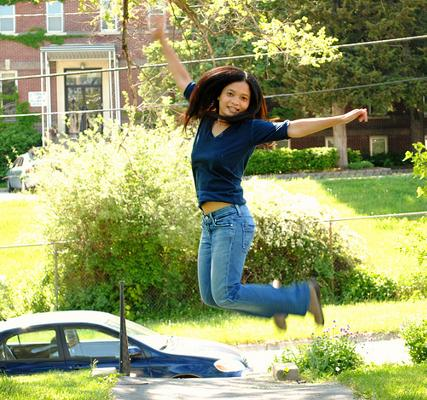person: (150, 13, 368, 332)
